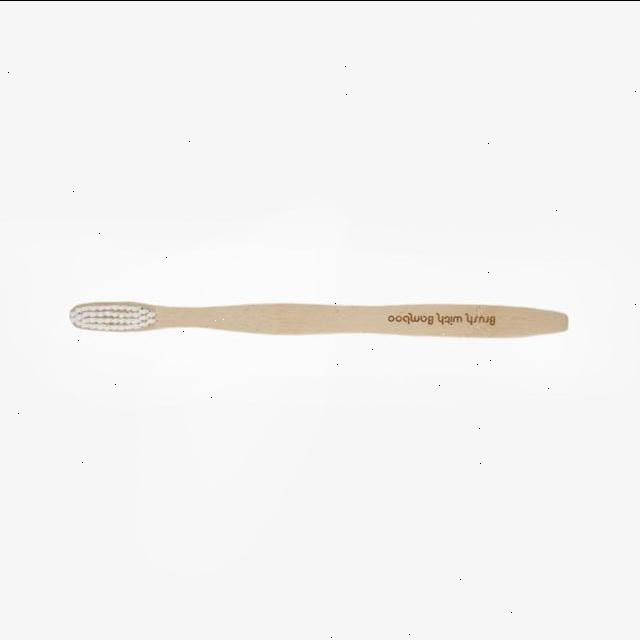toothbrush: (46, 276, 562, 362)
